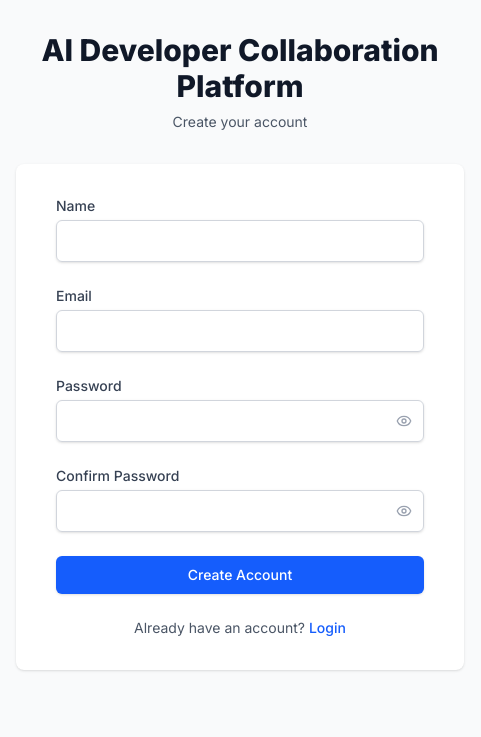
Test: Register Page › 8. displays generic server error
Type "Ashish" into the field labelled "Name" at x=240, y=241, box [56,220,424,262]
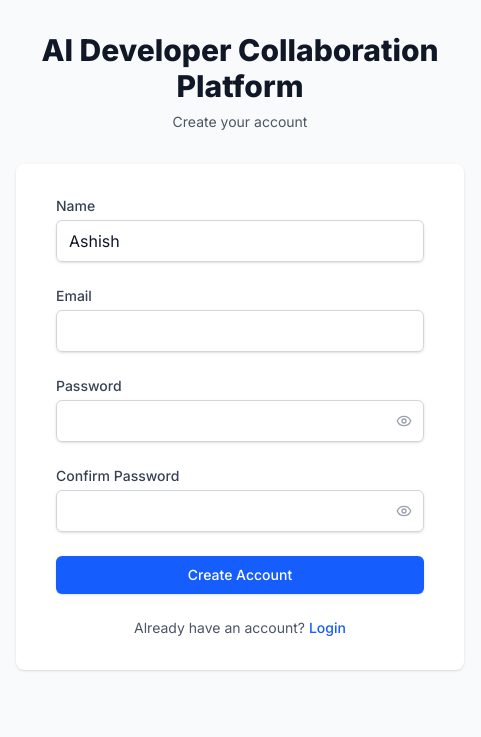
Type "ashish@example.com" into the field labelled "Email" at x=240, y=331, box [56,310,424,352]
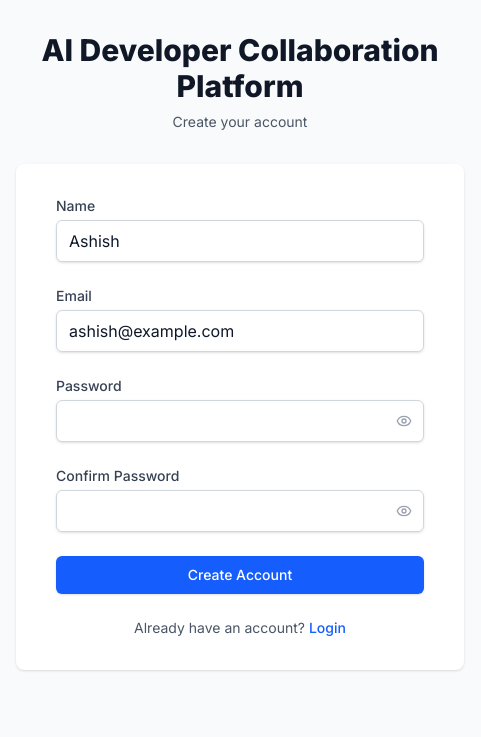
Type "password123" into the password field labelled "Password" at x=240, y=421, box [56,400,424,442]
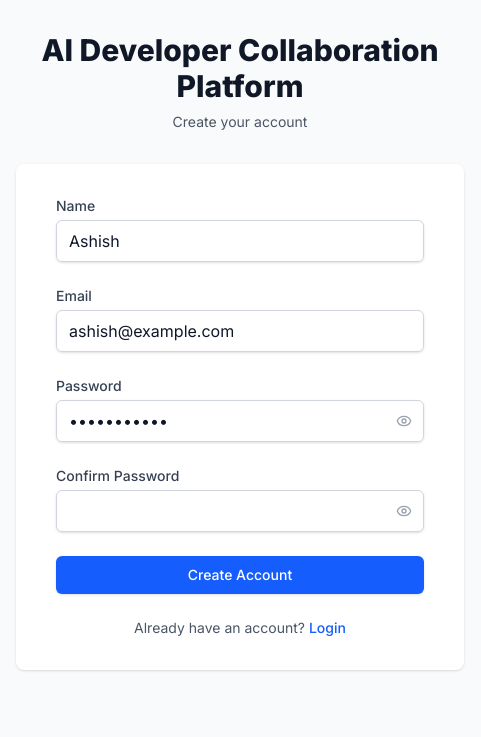
Type "password123" into the password field labelled "Confirm Password" at x=240, y=511, box [56,490,424,532]
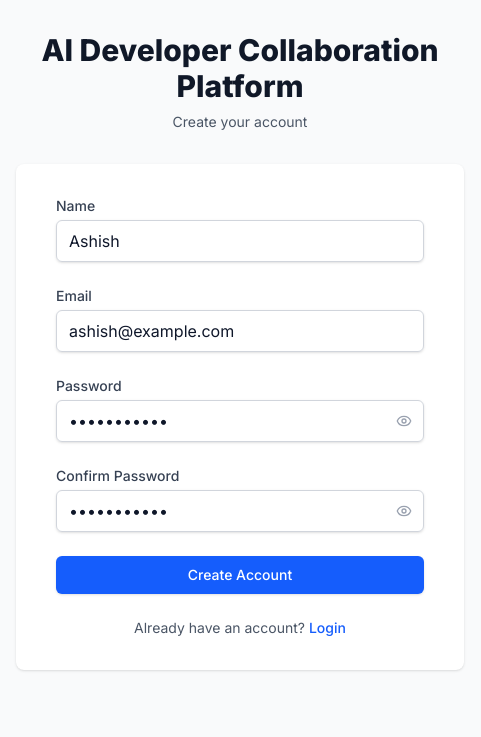
Click the button "Create Account" at x=240, y=575, box [56,556,424,594]
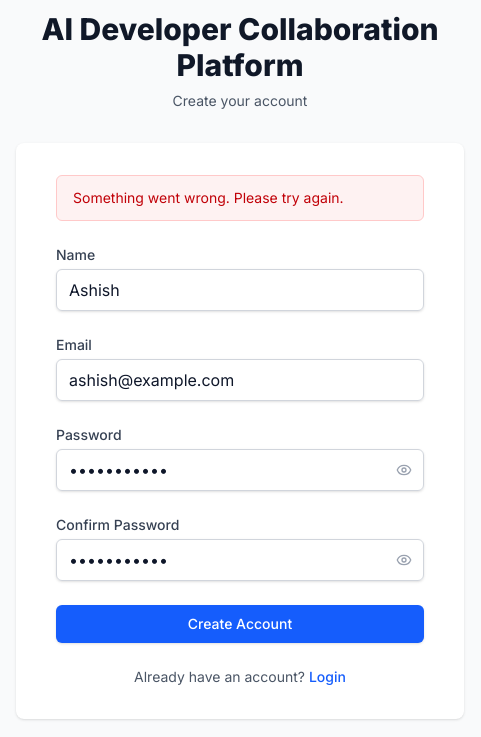
Expected: the text "Something went wrong. Please try again." is shown, [56,175,424,221]
